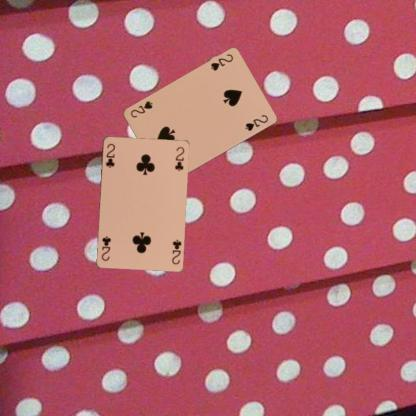2c: (169, 236, 183, 266), (102, 141, 116, 169)
2s: (208, 52, 235, 72)
